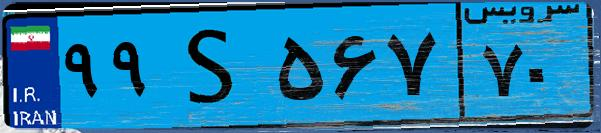0: (525, 38, 570, 115)
5: (270, 28, 330, 110)
6: (330, 28, 385, 110)
7: (385, 28, 445, 110), (475, 38, 525, 113)
9: (57, 26, 110, 100), (110, 28, 158, 98)
S: (158, 12, 270, 120)
